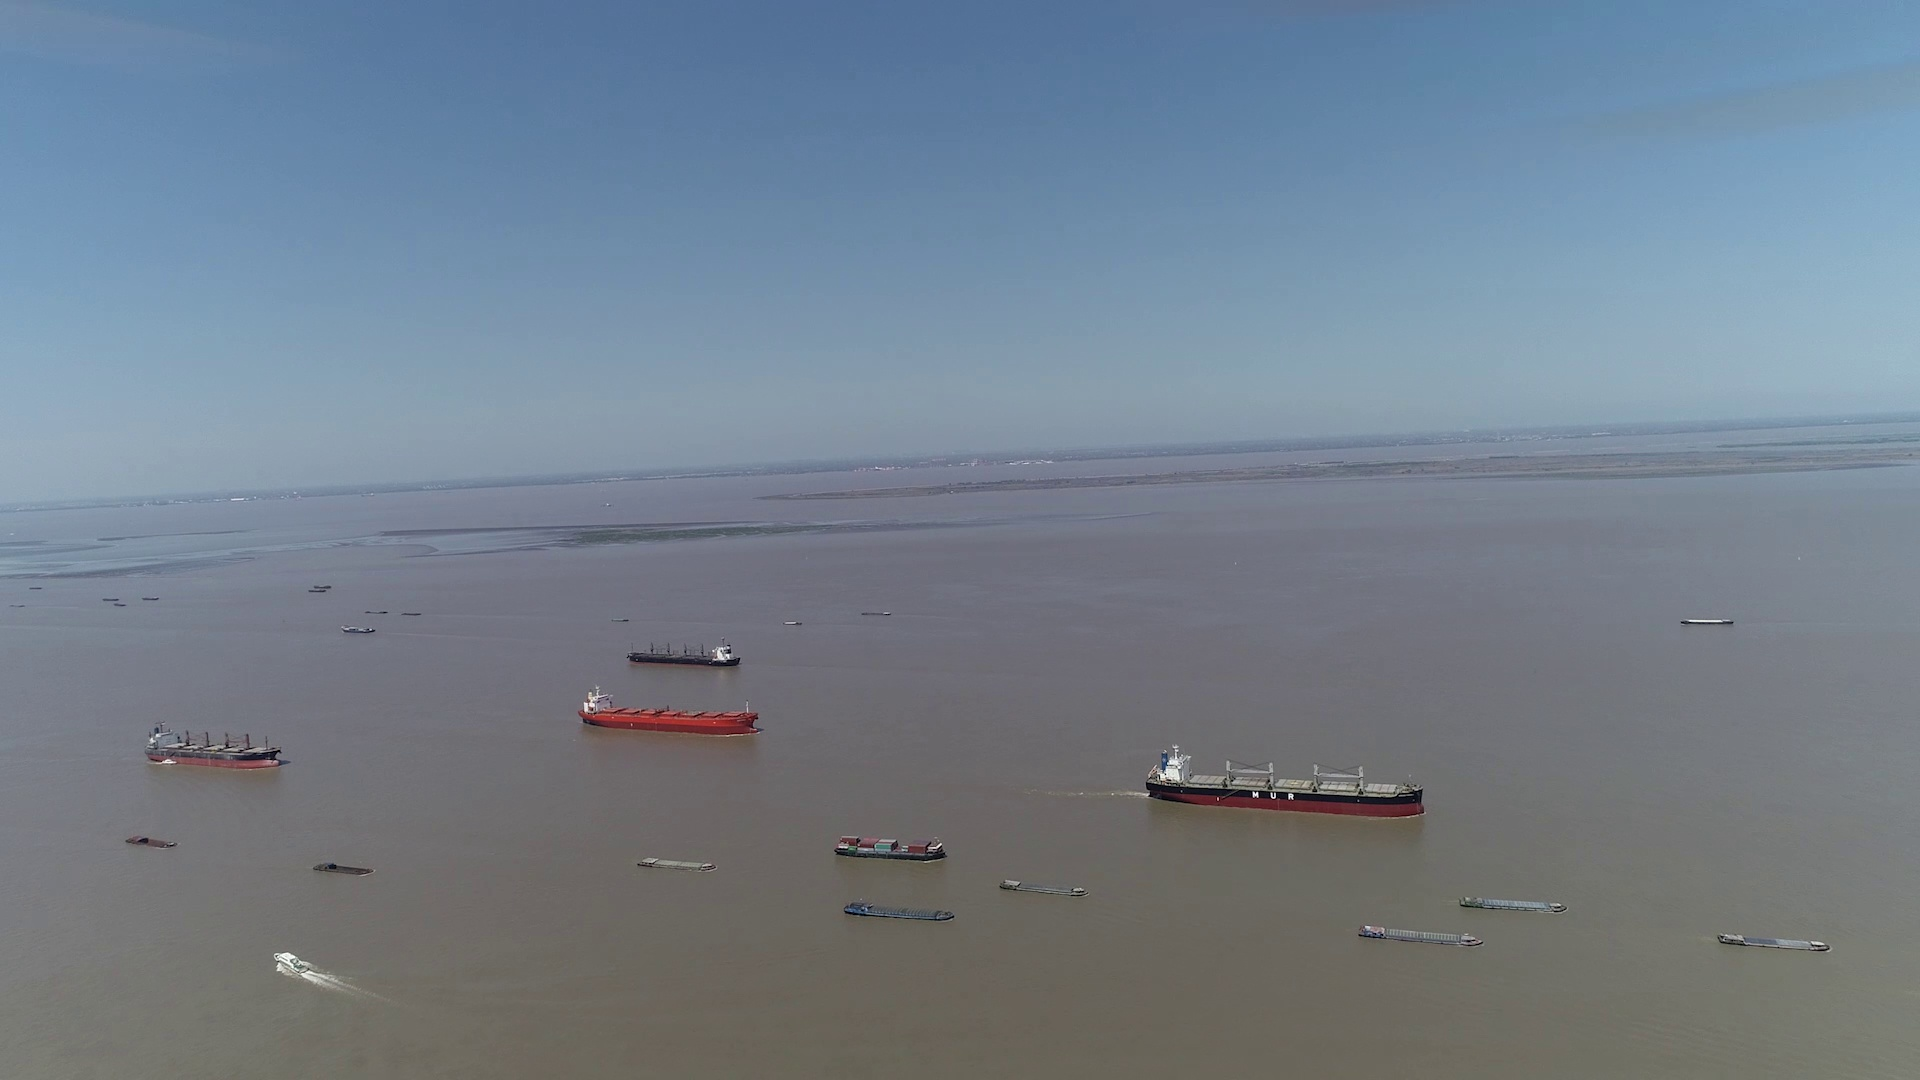ship: (1145, 744, 1422, 816), (578, 687, 756, 736), (142, 723, 282, 770), (833, 833, 949, 861), (626, 641, 740, 667), (1360, 924, 1484, 947), (843, 901, 956, 922), (1720, 931, 1832, 951), (1457, 893, 1567, 913), (1000, 877, 1089, 897), (638, 856, 717, 872), (274, 952, 311, 973), (314, 862, 372, 876), (123, 835, 171, 849), (1679, 617, 1735, 626), (340, 625, 376, 633)
